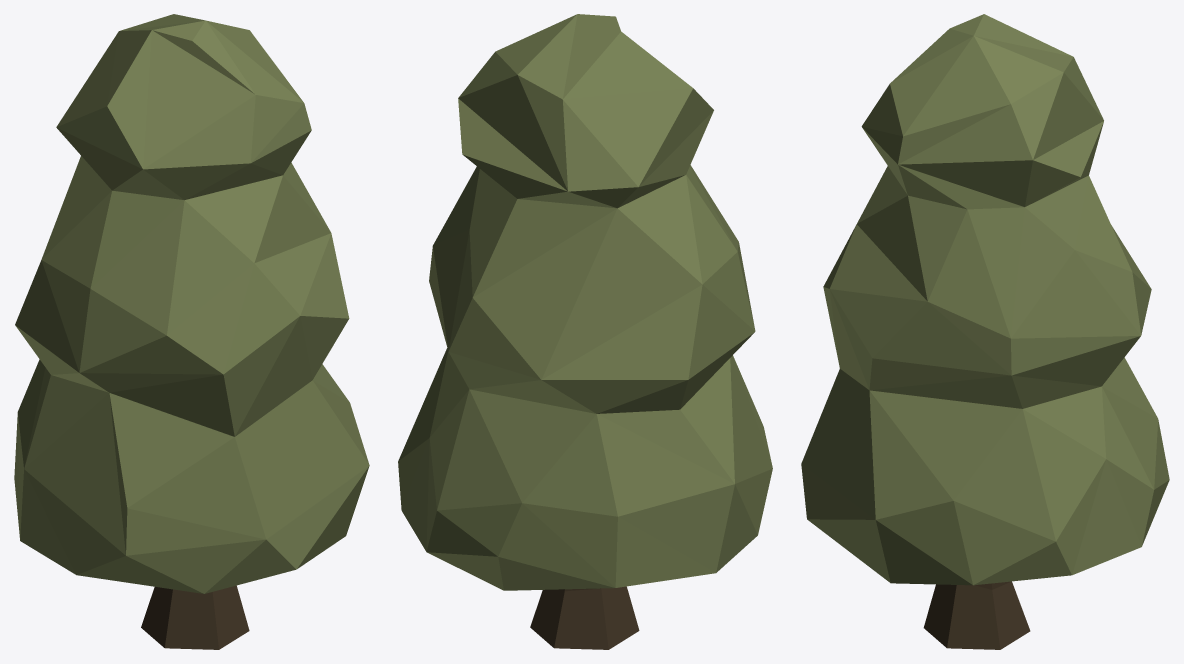
The model's file is Tree02.fbx.
The picture shows the model from 3 angles, left to right: view 1: azimuth 30°, elevation 25°; view 2: azimuth 150°, elevation 25°; view 3: azimuth 270°, elevation 25°; orthographic projection. The views are drawn at different scales.
Visible parts, largest first — view 1: pCylinder11; view 2: pCylinder11; view 3: pCylinder11.
Part boxes in pixels (<box>): pCylinder11: <box>14,14,369,649</box>; pCylinder11: <box>398,14,772,649</box>; pCylinder11: <box>801,14,1169,649</box>.
Bounding box in the file's own units: 194 × 359 × 201.
